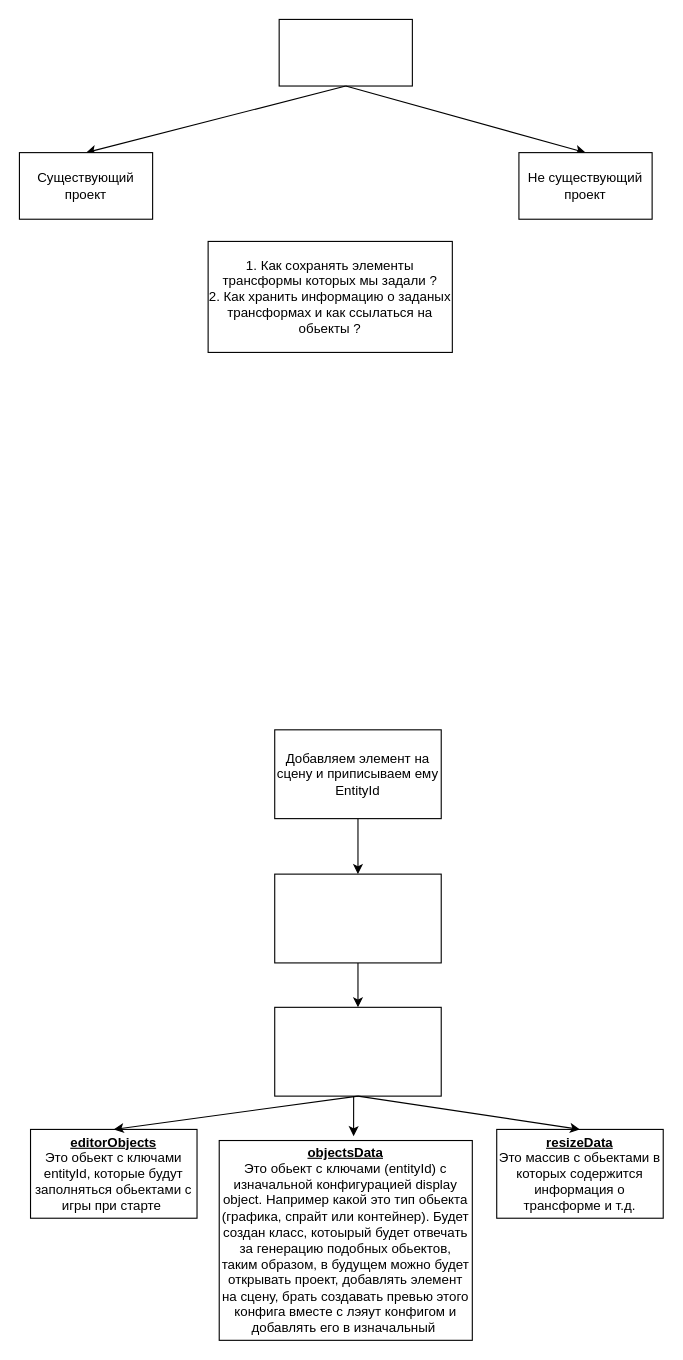
The diagram is 683 pixels wide and 1360 high, and some of its shapes have lost their labels. Here are the shapes that lost their labels. From the top down, the centre of each, then its label:
At pixel 345 52: "Вносим правки в позиционирование".
At pixel 357 918: "Создаем файл EditorConfig".
At pixel 357 1051: "В файле EditorConfig создаем три поля,".
